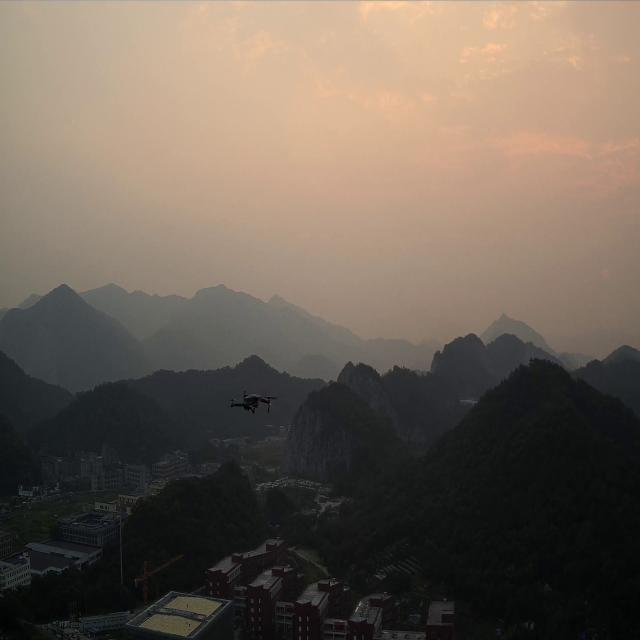UAV: (230, 390, 278, 413)
